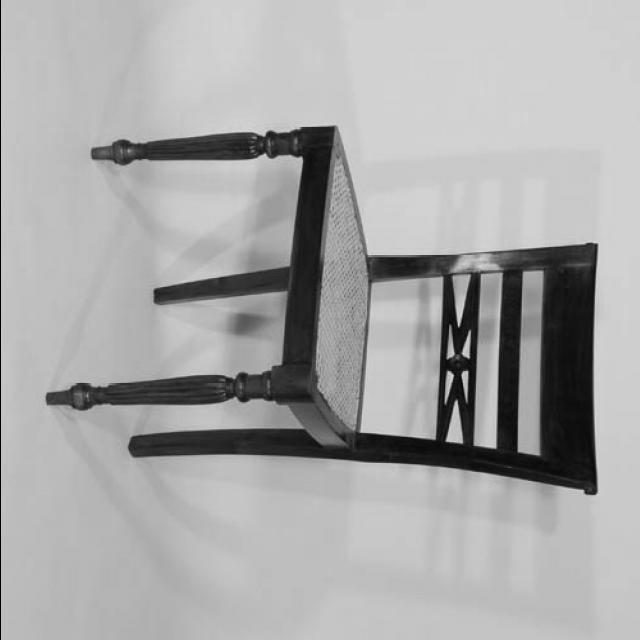chair: (44, 124, 598, 498)
